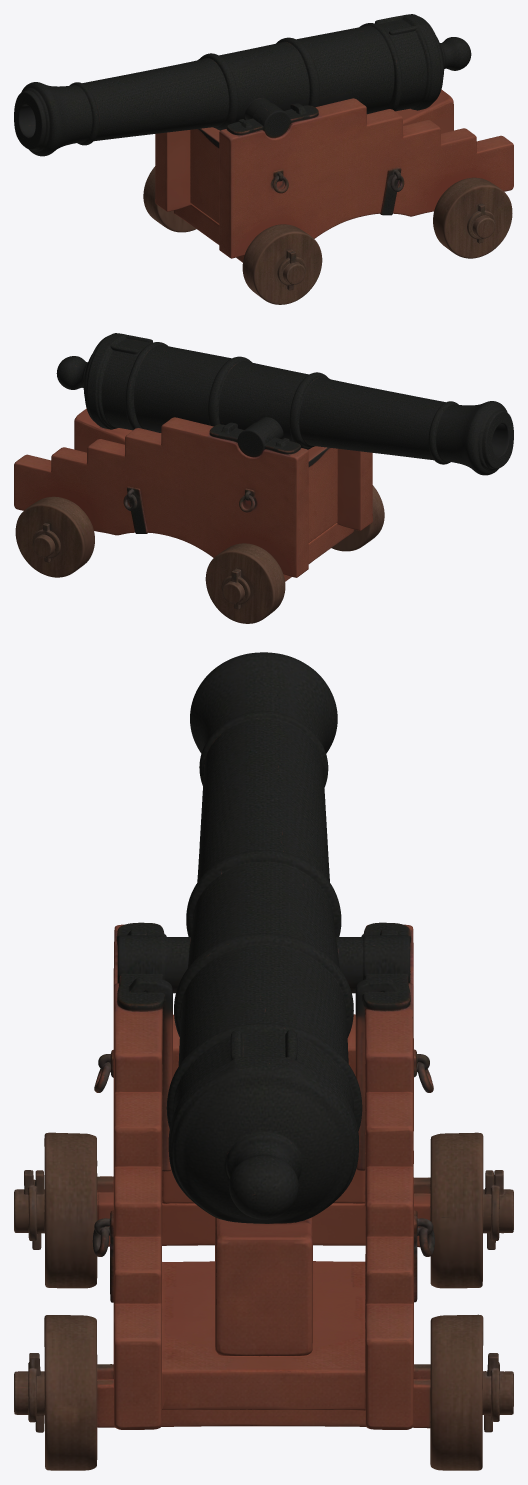
Rendered from gun_4pdr.glb.
3 renders of one model, top to bottom at view 1: azimuth 30°, elevation 25°; view 2: azimuth 150°, elevation 25°; view 3: azimuth 270°, elevation 25°, orthographic. The views are drawn at different scales.
Size of the model in its own units: 1.9 by 0.9075 by 0.9272.
1 material, 1 textured.
